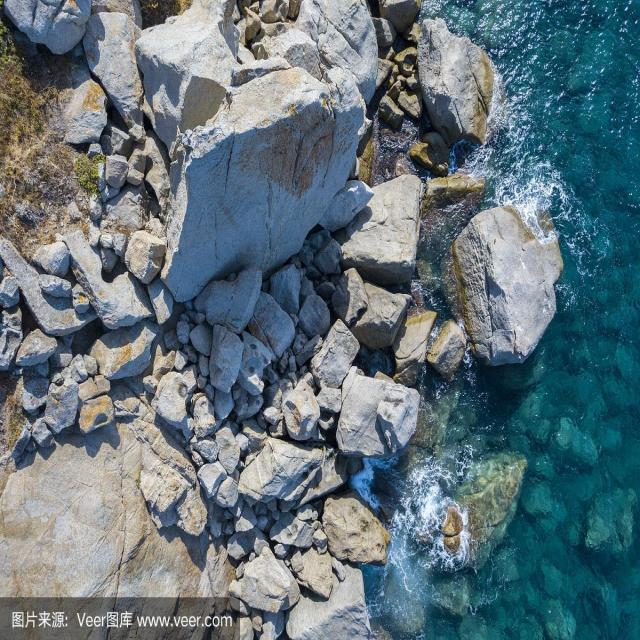reef: (287, 257, 548, 580)
